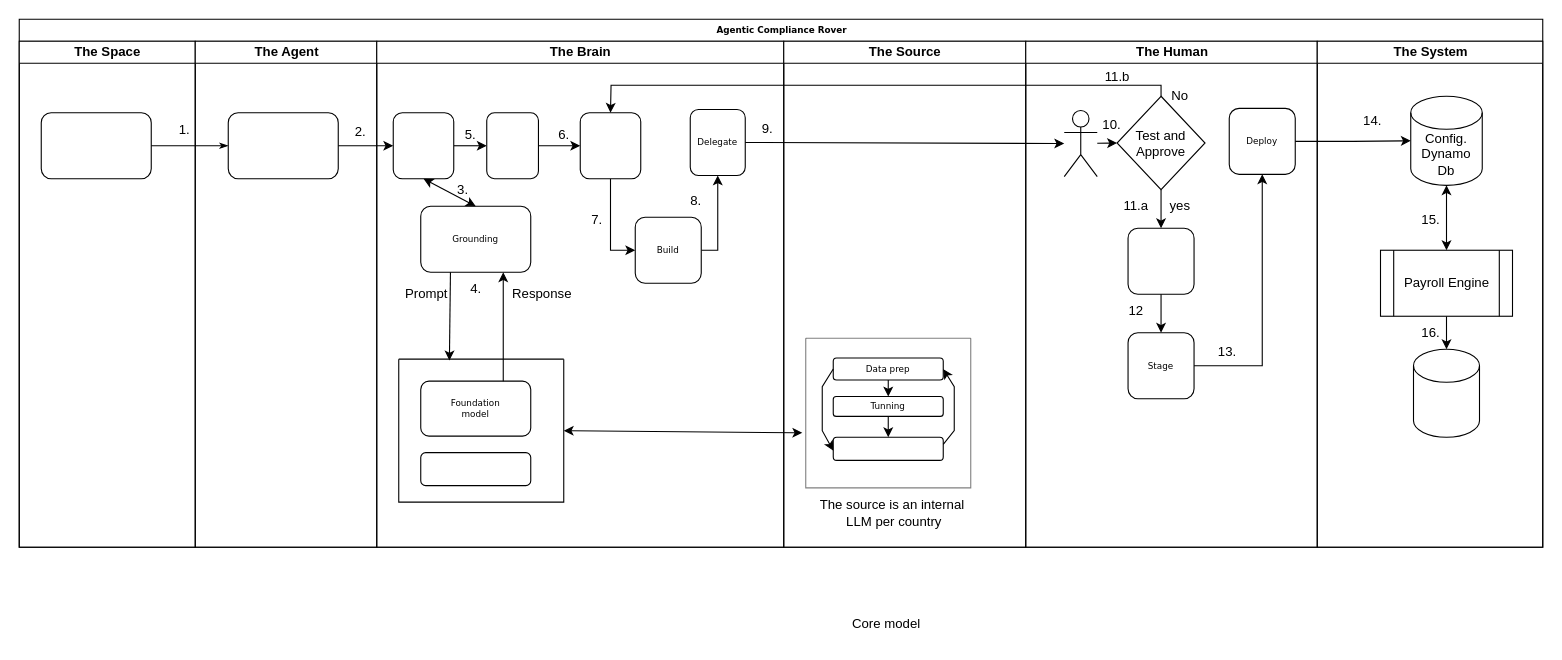
Image size: 1562x660. Some labels were removed from this diagram. Each missing label, with the centre of its shape:
"Compose" belongs at point 610,145.
"Country Config trigger ( Payroll elements)" belongs at point 95,145.
"Evaluate" belongs at point 887,448.
"Fine tuned" belongs at point 475,469.
"Payroll Register / DB" belongs at point 1446,392.
"Post-Processing" belongs at point 512,145.
"Pre-process the request" belongs at point 423,145.
"Rover picks it up Country/Complaince level granularity" belongs at point 282,145.
"Update" belongs at point 1160,260.
